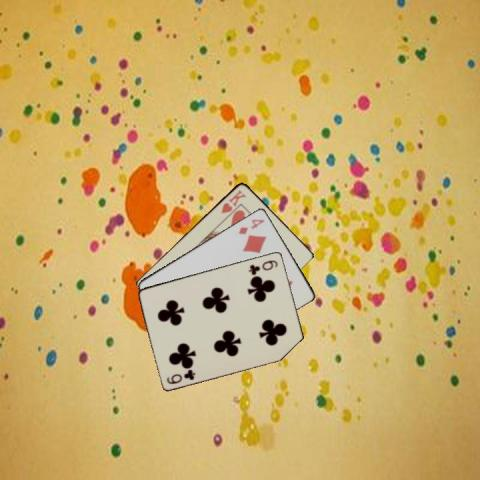4d: (235, 216, 266, 235)
6c: (164, 366, 197, 385), (246, 257, 280, 275)
Kh: (218, 186, 247, 215)
